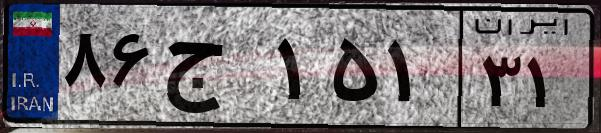1: (270, 28, 330, 110), (385, 28, 445, 110), (525, 38, 570, 115)
3: (475, 38, 525, 113)
5: (330, 28, 385, 110)
6: (110, 28, 158, 98)
8: (57, 26, 110, 100)
ج: (158, 20, 270, 120)
